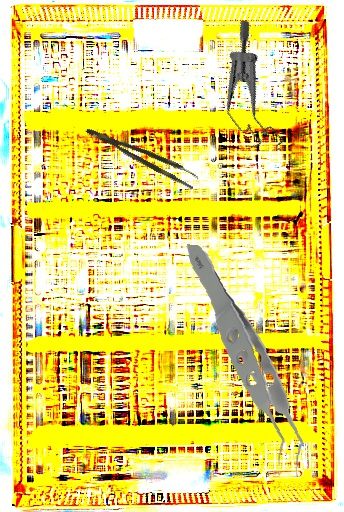Speculum: (186, 17, 322, 166)
Tissue Forceps: (164, 243, 321, 479), (85, 118, 200, 191)
